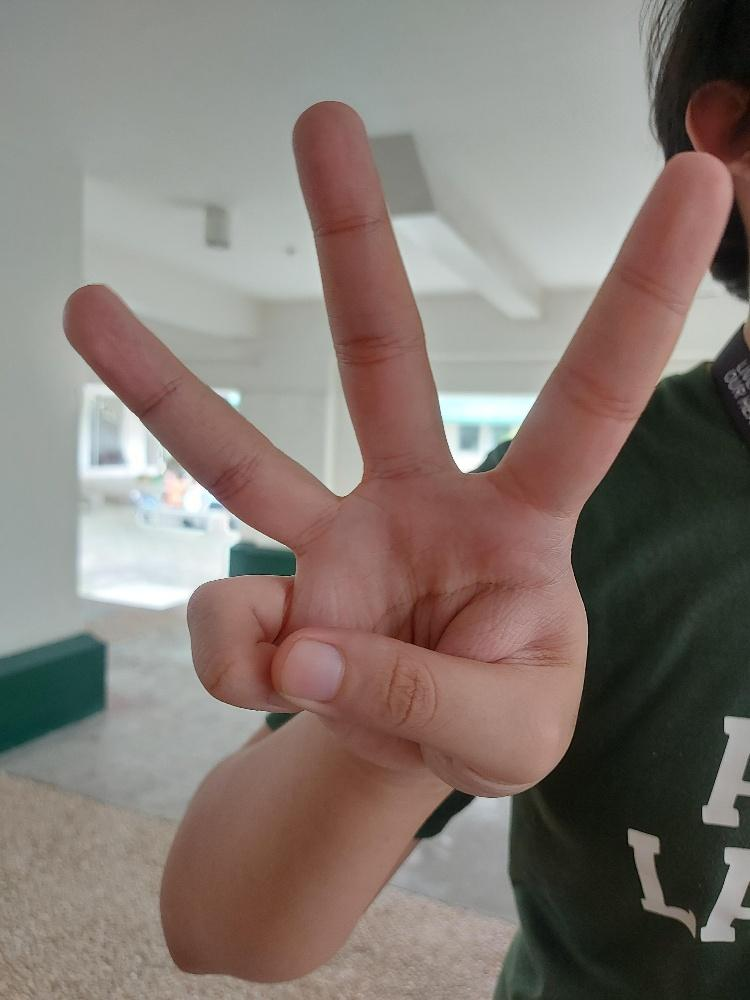w: (59, 96, 736, 801)
